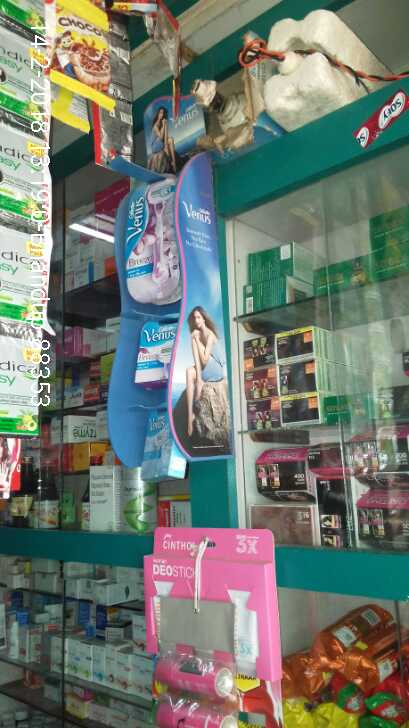beauty: (122, 185, 182, 303), (141, 411, 185, 482), (130, 322, 181, 380)
